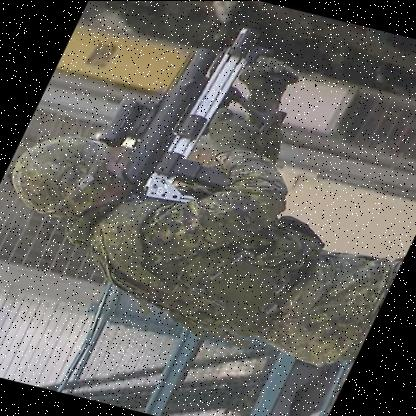rifle: (110, 14, 286, 215)
